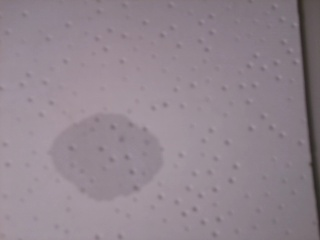Water_detected: (60, 120, 156, 189)
